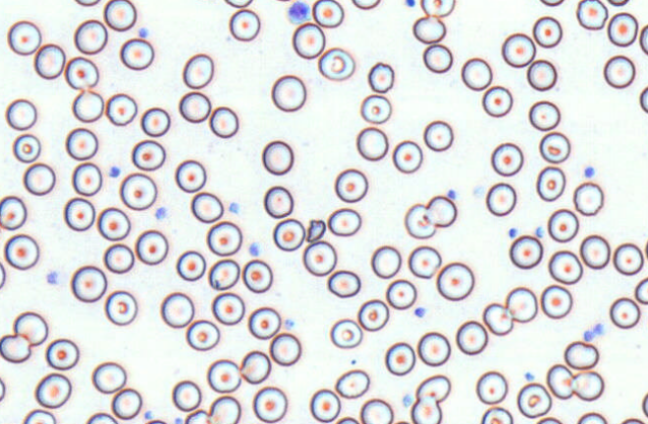PLT: (285, 1, 313, 24), (247, 241, 264, 260), (45, 270, 62, 288), (155, 205, 169, 221), (581, 329, 595, 344), (583, 165, 598, 179), (593, 321, 605, 338), (227, 200, 241, 214), (414, 307, 429, 320), (108, 165, 121, 179), (401, 394, 415, 407), (507, 225, 519, 239), (534, 226, 546, 239), (138, 25, 149, 37), (525, 370, 536, 382), (285, 318, 295, 331), (143, 410, 154, 420), (404, 0, 416, 9), (448, 189, 457, 200), (174, 415, 184, 424)
RBC: (436, 261, 474, 301), (119, 172, 157, 210), (70, 265, 107, 302), (34, 372, 71, 408), (271, 74, 306, 112), (206, 220, 242, 256), (252, 386, 287, 423), (4, 233, 39, 270), (291, 21, 325, 59), (516, 382, 551, 418), (160, 291, 194, 328), (317, 47, 355, 80), (13, 311, 48, 346), (206, 358, 241, 393), (508, 234, 543, 269), (548, 249, 583, 284), (302, 240, 336, 276), (501, 32, 535, 67), (7, 20, 41, 55), (73, 19, 107, 54), (135, 229, 168, 265), (407, 245, 441, 279), (334, 168, 368, 202), (455, 320, 488, 355), (417, 331, 450, 366), (64, 56, 99, 89), (104, 290, 137, 325), (97, 206, 130, 241), (355, 126, 388, 161), (119, 37, 154, 70), (404, 203, 436, 239), (505, 286, 537, 322), (33, 43, 65, 79), (261, 139, 293, 175), (182, 53, 214, 89), (475, 370, 508, 404), (211, 292, 245, 325), (490, 142, 523, 176), (91, 361, 126, 393), (239, 349, 271, 384), (540, 284, 572, 319), (22, 162, 55, 195), (71, 89, 104, 122), (248, 306, 281, 339), (65, 127, 98, 160), (272, 218, 305, 251), (45, 338, 79, 370), (185, 319, 219, 351), (269, 332, 301, 366), (63, 197, 95, 231), (603, 54, 635, 88), (131, 139, 165, 171), (547, 208, 579, 242), (105, 92, 137, 126), (71, 161, 102, 196), (573, 181, 604, 216), (579, 234, 610, 269), (425, 194, 457, 227), (612, 242, 644, 275), (190, 191, 223, 223), (228, 8, 260, 41), (178, 91, 211, 123), (357, 298, 389, 331), (174, 159, 206, 192), (309, 388, 340, 422), (384, 341, 415, 375), (607, 12, 638, 46), (370, 244, 401, 278), (392, 139, 423, 173), (485, 182, 516, 216), (335, 368, 370, 398), (563, 340, 599, 369), (536, 165, 565, 201), (5, 98, 37, 130), (208, 258, 240, 290), (538, 131, 570, 163), (482, 302, 513, 335), (571, 370, 604, 401), (103, 0, 136, 31), (609, 296, 640, 329), (461, 57, 492, 90), (208, 105, 239, 138), (242, 259, 272, 293), (546, 363, 574, 399), (111, 387, 142, 419), (526, 59, 557, 91), (385, 278, 417, 309), (481, 85, 512, 117), (528, 100, 560, 131), (329, 318, 362, 348), (532, 15, 562, 48), (263, 185, 293, 218), (412, 15, 446, 44), (327, 207, 361, 236), (415, 374, 450, 402), (103, 243, 134, 274), (175, 250, 206, 281), (360, 93, 391, 124), (171, 379, 201, 411), (576, 0, 608, 30), (423, 119, 453, 151), (327, 269, 360, 298), (0, 195, 27, 230), (0, 333, 31, 363), (140, 106, 170, 137), (208, 395, 241, 423), (311, 0, 344, 28), (422, 43, 452, 73), (12, 133, 41, 163), (367, 61, 394, 93), (359, 398, 393, 423), (410, 396, 441, 423), (420, 0, 455, 17), (480, 406, 512, 423), (22, 408, 56, 423), (576, 411, 607, 423), (184, 409, 210, 423), (634, 276, 647, 304), (85, 412, 118, 423), (639, 23, 648, 55), (351, 0, 381, 9), (639, 85, 648, 113), (223, 0, 253, 8), (535, 416, 562, 423), (641, 391, 648, 417), (0, 260, 6, 289), (335, 416, 359, 423), (74, 0, 101, 6), (539, 0, 565, 6), (619, 417, 644, 423), (607, 0, 630, 6), (0, 376, 5, 402), (144, 419, 167, 424), (644, 237, 648, 261), (391, 420, 411, 424), (272, 0, 297, 2), (195, 0, 219, 2)
Schistocyte: (307, 219, 326, 244)
